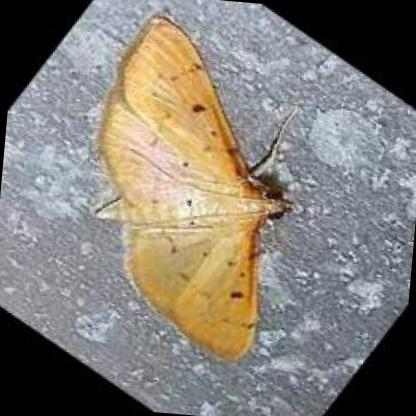Leaf Webber: (90, 13, 293, 372)
